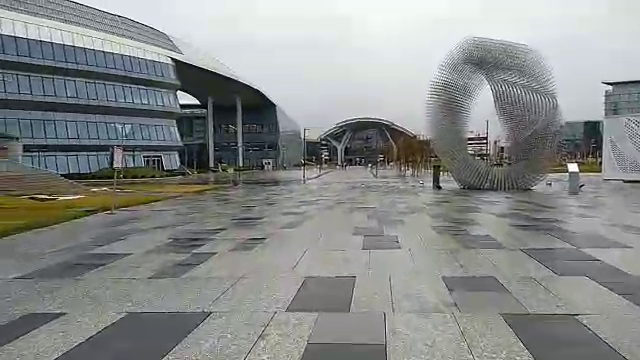mega: (314, 115, 420, 174)
